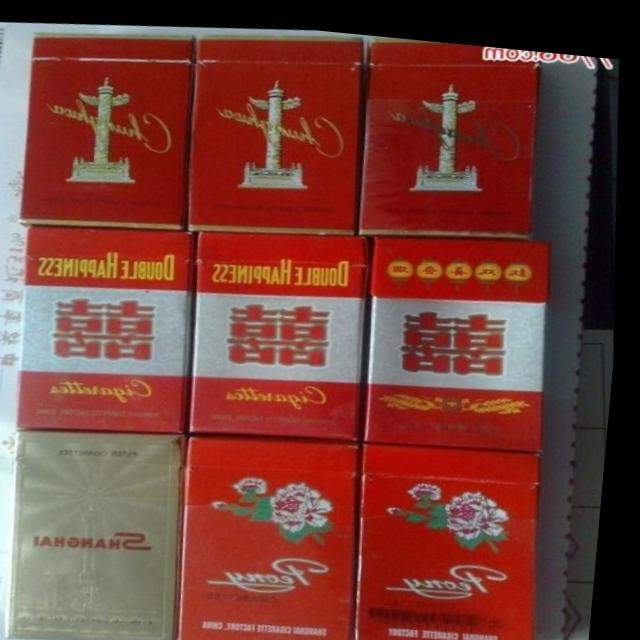box: (371, 228, 553, 439), (189, 430, 369, 640), (18, 429, 194, 640), (366, 435, 547, 640), (196, 227, 371, 434), (24, 224, 200, 429), (362, 29, 541, 229), (191, 29, 362, 228), (24, 30, 195, 226)
